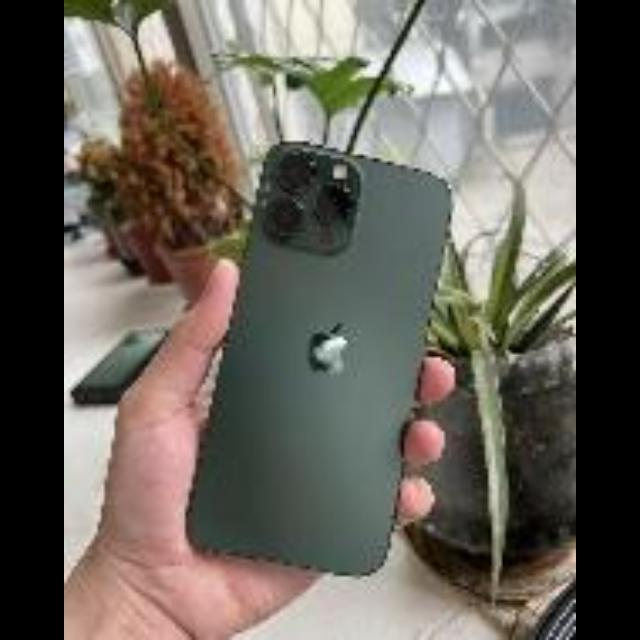PhoneUse: (154, 140, 466, 580)
